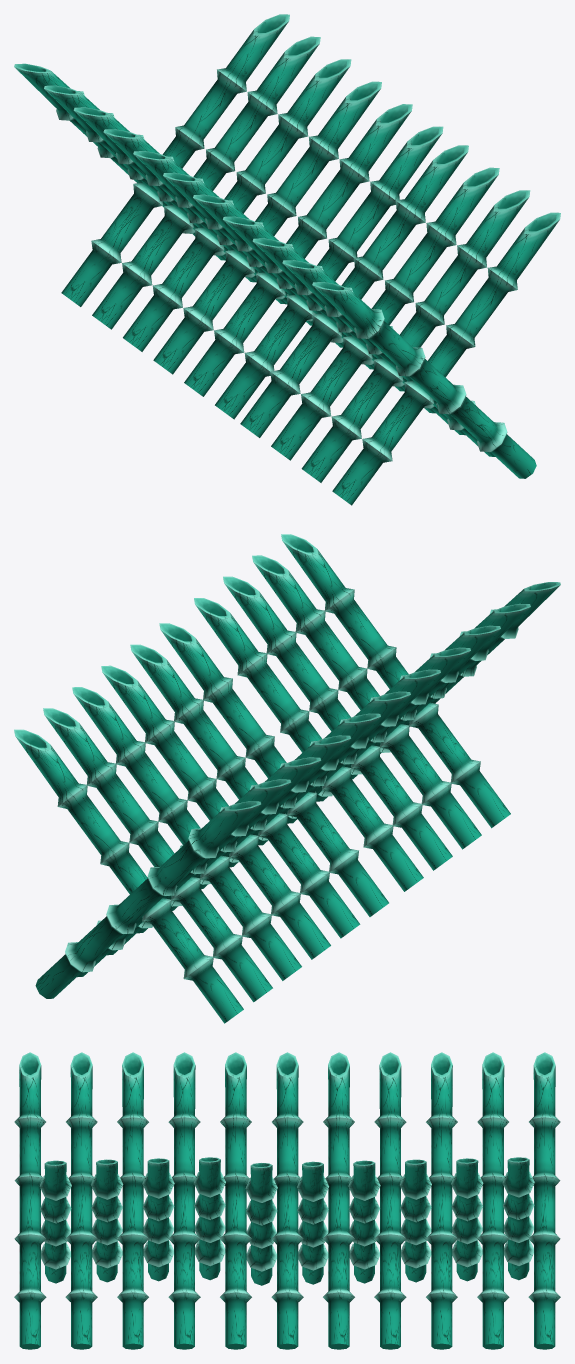
Rendered from FF_hazard_bamboo_mesh.fbx.
The picture shows the model from 3 angles, top to bottom: view 1: azimuth 30°, elevation 25°; view 2: azimuth 150°, elevation 25°; view 3: azimuth 270°, elevation 25°; orthographic projection. The views are drawn at different scales.
Visible parts, largest first — view 1: polySurface118; view 2: polySurface118; view 3: polySurface118.
Boxes of the visible parts, x1,y1,x2,y2 form: polySurface118: (14,14,560,505); polySurface118: (14,534,560,1023); polySurface118: (14,1052,560,1349).
Size of the model in its own units: 1.94 by 1.7 by 4.
